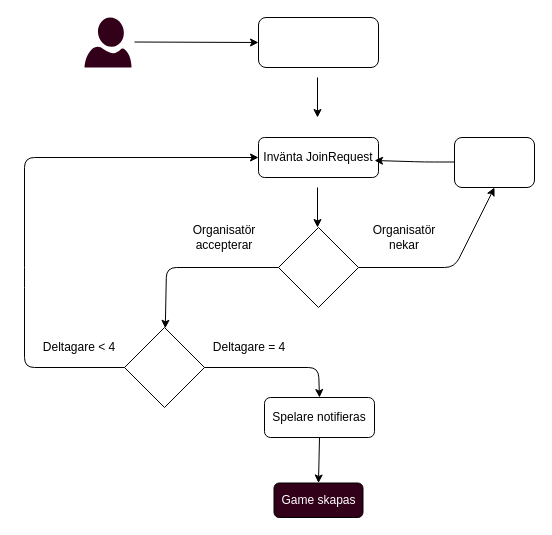
Some shapes in this 552 by 535 pixel diagram are drawn without their labels. Here are the shapes that lost their labels. From the top down, the centre of each, then its label:
At point 318,42: "Skapa MatchRequest".
At point 494,162: "Avsändaren notifieras".
